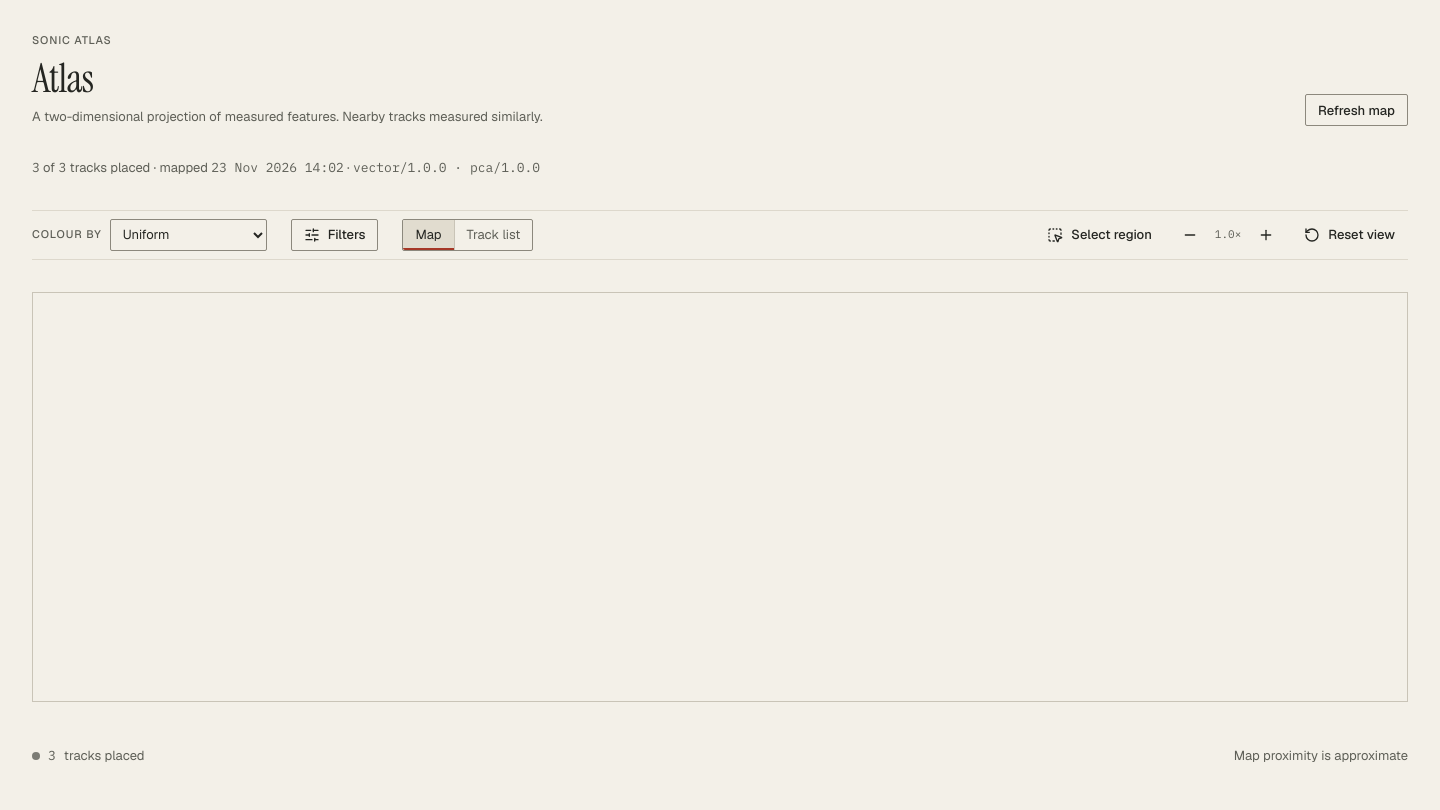
Scenario: AtlasPage › offers only descriptors that were measured and counts unknowns
Select "Tempo (estimated)" in the dropdown labelled "Colour by" at point(188, 234), box [110,218,267,250]
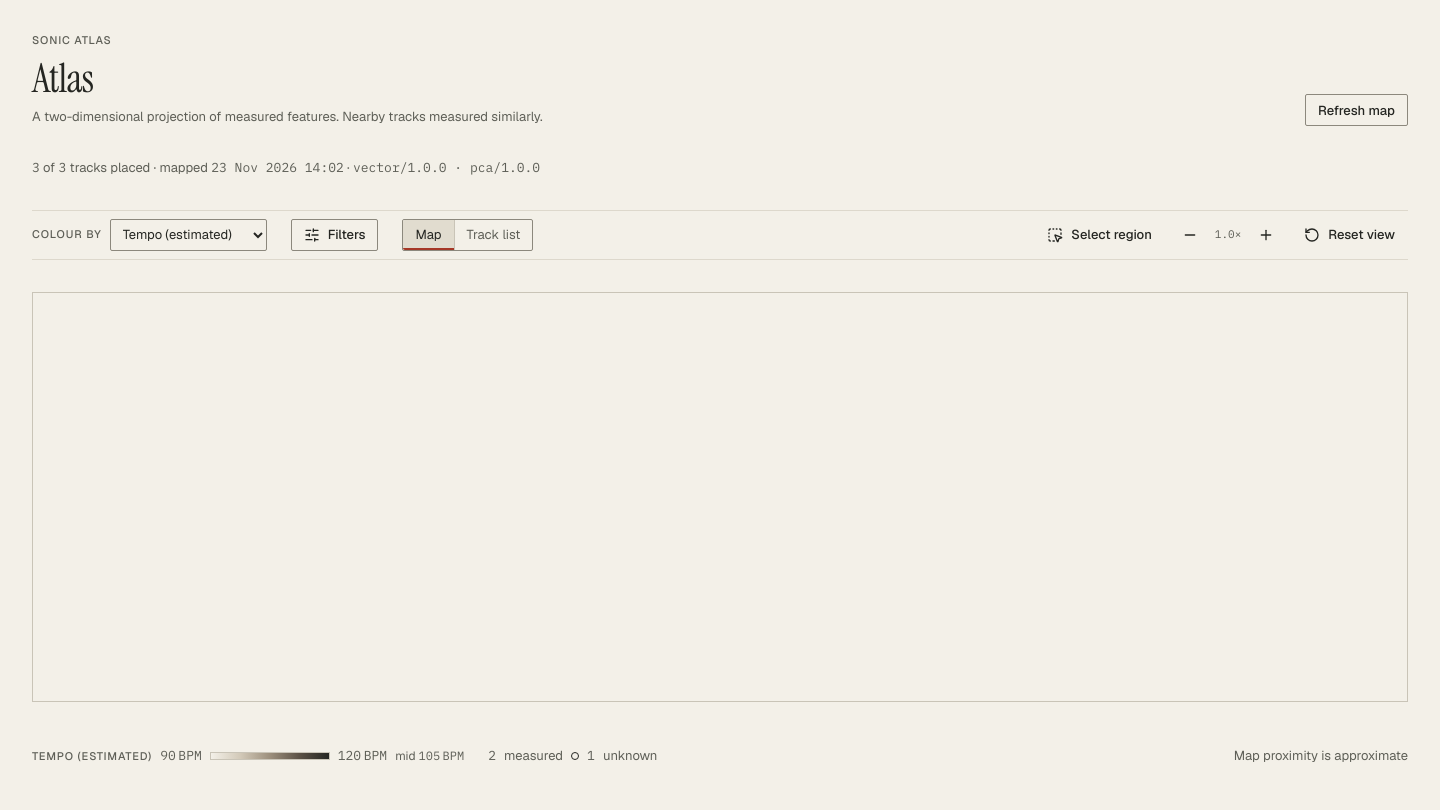
Now the text "2 measured 1 unknown" is shown, box [488,746,657,766]
Now the text "2" is shown, box [488,746,496,766]
